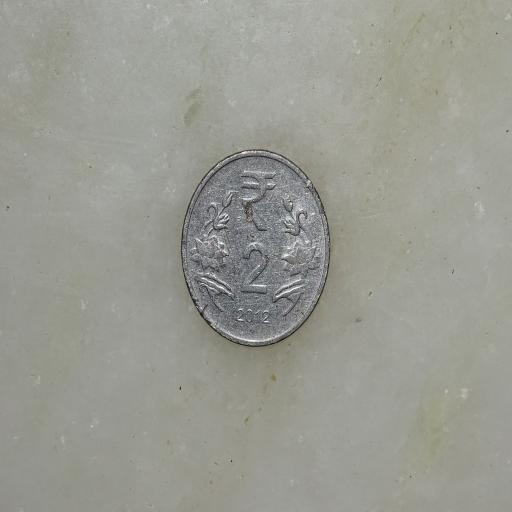rupee2: (175, 149, 334, 353)
